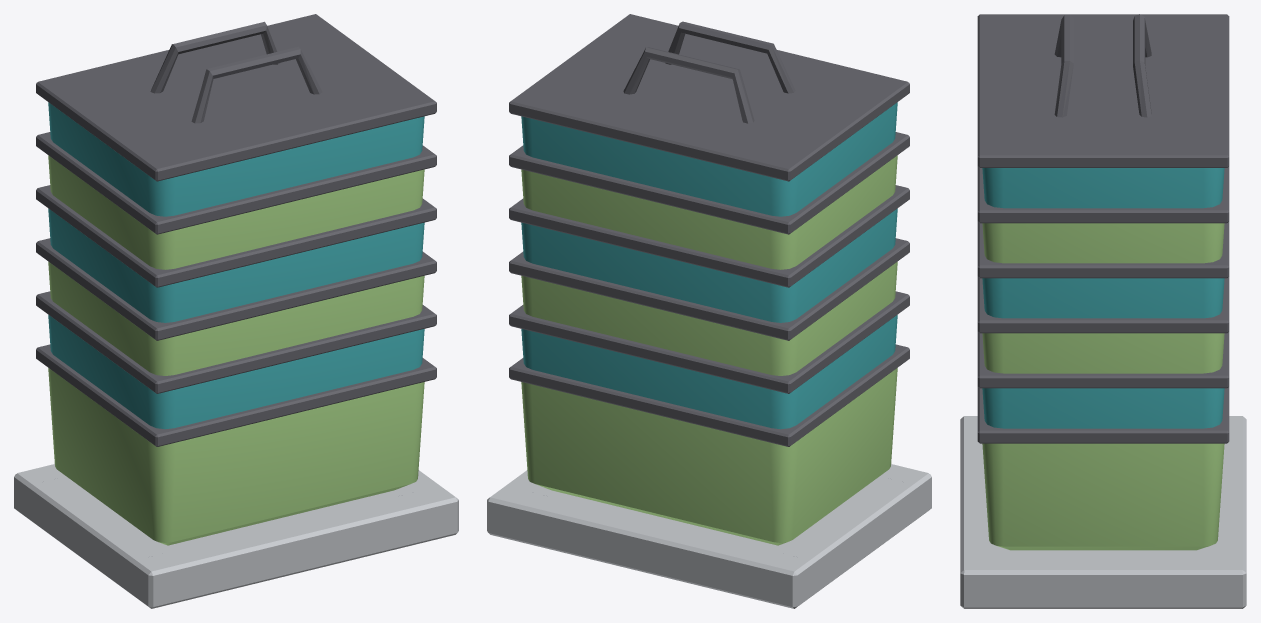
Rendered from pet-shop-and-grooming-salon-basket-stack-74018424__34576.glb.
The picture shows the model from 3 angles, left to right: view 1: azimuth 30°, elevation 25°; view 2: azimuth 150°, elevation 25°; view 3: azimuth 270°, elevation 25°; orthographic projection. The views are drawn at different scales.
Visible parts, largest first — view 1: basket-stack; view 2: basket-stack; view 3: basket-stack.
Part boxes in pixels (box(x1,y1,x2,y2)): basket-stack: box(14, 14, 458, 608); basket-stack: box(487, 14, 931, 608); basket-stack: box(960, 14, 1246, 608).
Size of the model in its own units: 0.52 by 0.7633 by 0.4.
